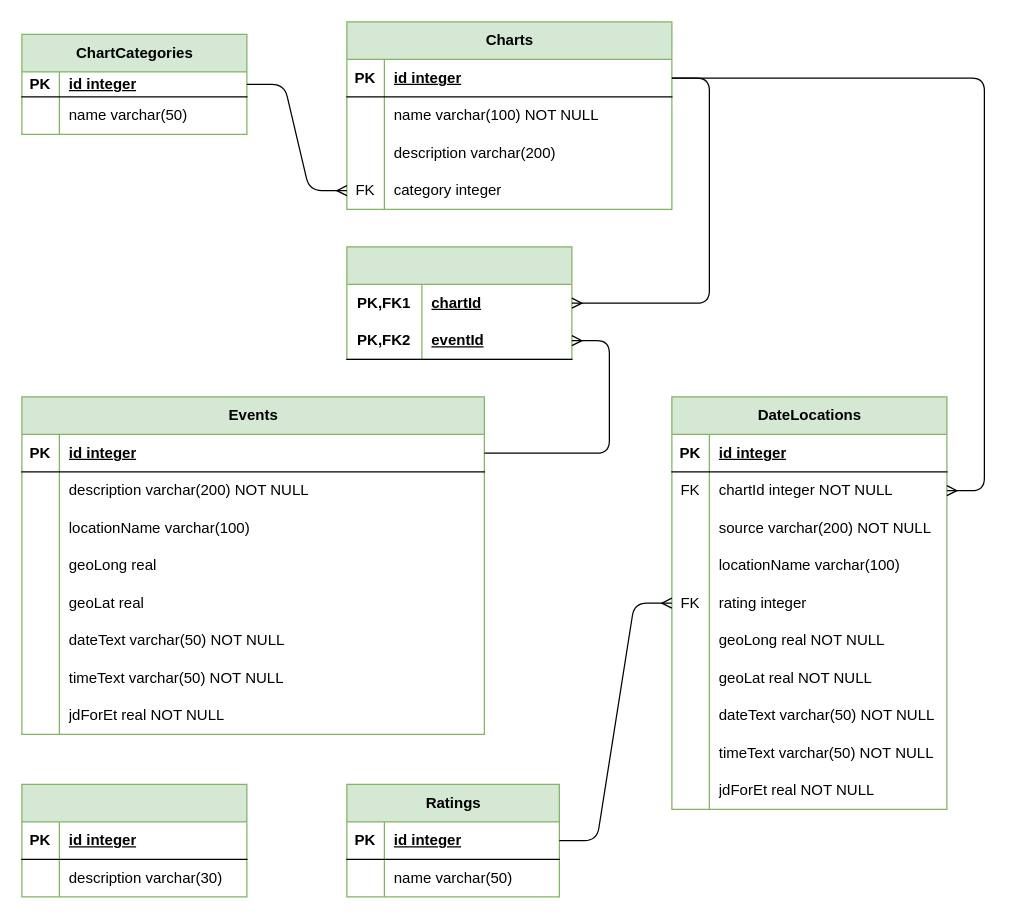
The diagram is 1016 pixels wide and 919 high, and some of its shapes have lost their labels. Here are the shapes that lost their labels. From the top down, the box of each, then its label:
(346, 246, 572, 359): ChartsEvents
(21, 783, 247, 897): DbVersions
